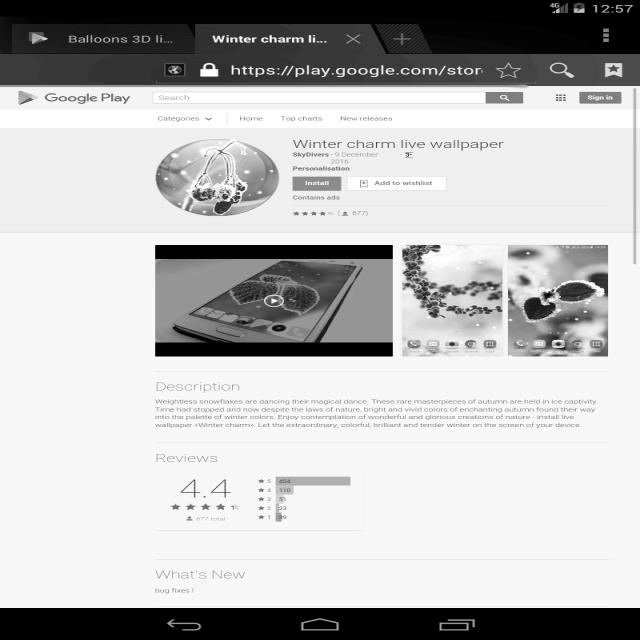Button: (288, 171, 345, 193), (574, 88, 624, 106), (482, 90, 526, 106)
EditText: (146, 88, 473, 106)
ImageButton: (543, 58, 582, 82), (594, 58, 629, 82), (488, 59, 528, 79), (193, 60, 224, 80), (596, 25, 615, 47)
ImageView: (148, 246, 610, 352), (152, 135, 277, 211), (22, 30, 54, 49), (12, 88, 40, 104)
RatingBar: (165, 500, 245, 512)
TextView: (150, 396, 602, 428), (288, 138, 510, 152), (151, 566, 251, 582), (149, 378, 248, 392), (147, 451, 223, 468)
